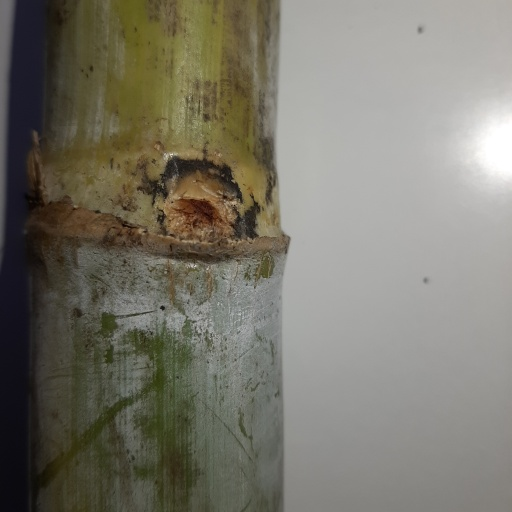Damage_Bud: (168, 171, 232, 240)
